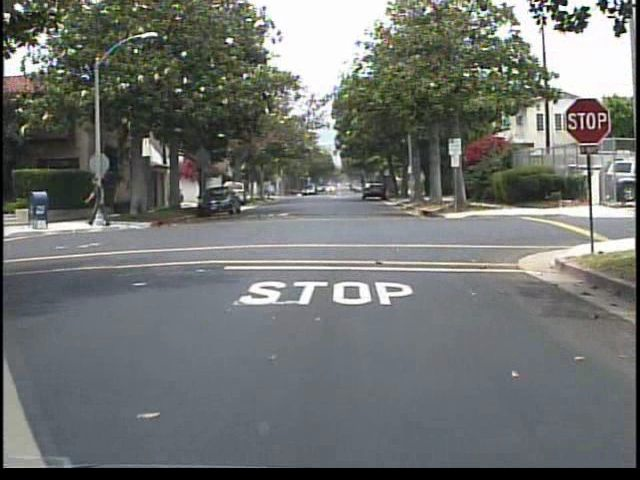person: (85, 170, 114, 233)
